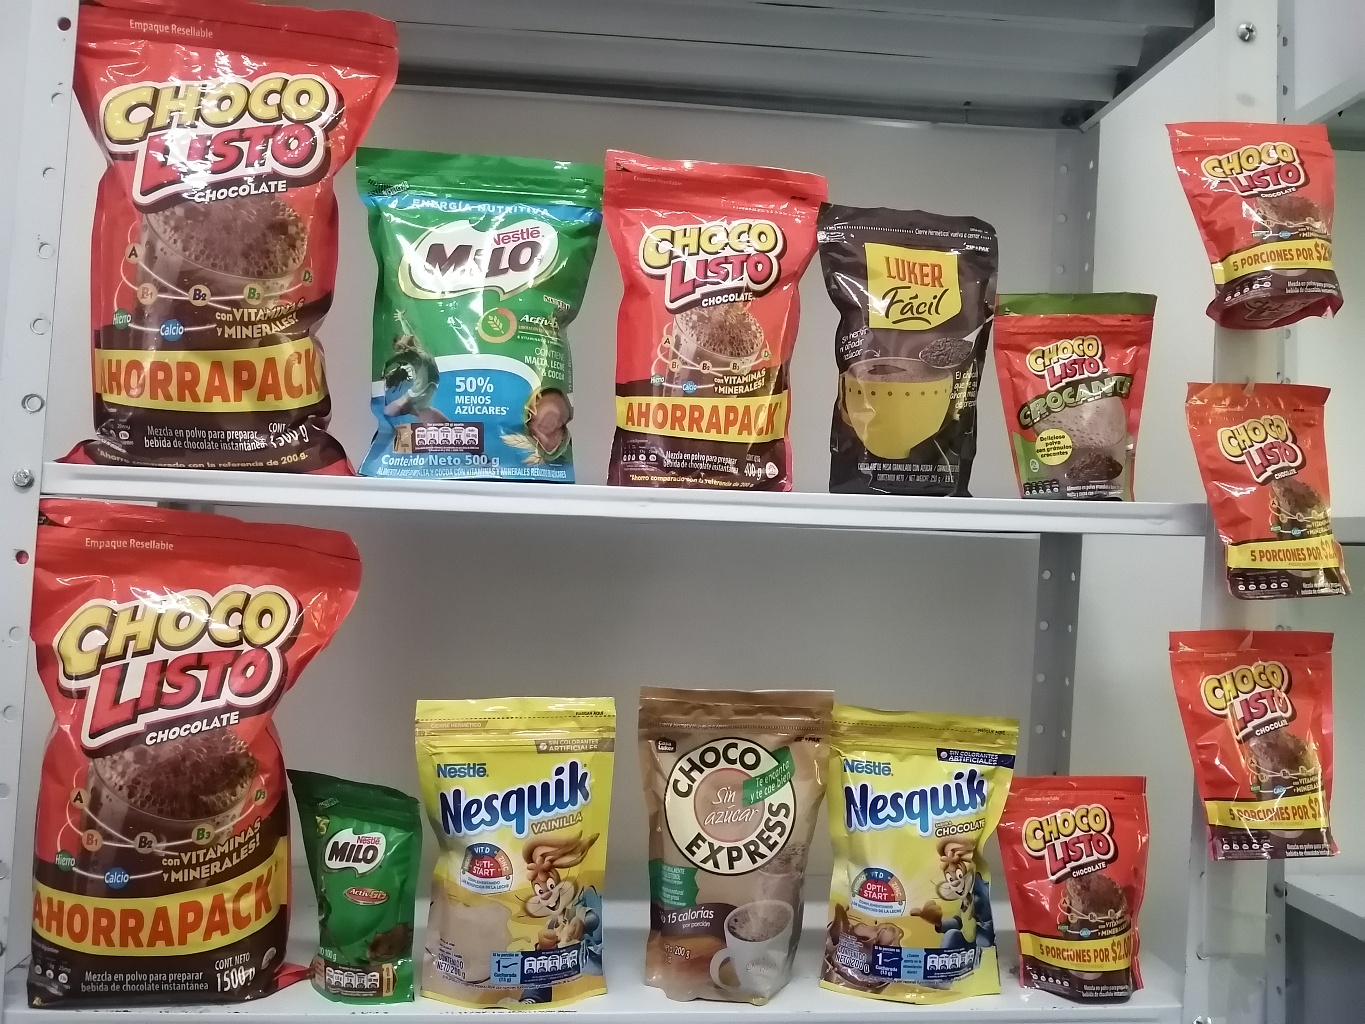COL0170102DYP10000: (990, 267, 1158, 494)
COL0170103DYP1,500: (29, 486, 362, 1009)
COL0170103DYP10000: (1156, 110, 1348, 336)
COL0170103DYP40000: (598, 137, 817, 490)
COL0170203DYP10000: (292, 760, 428, 1012)
COL0170205DYP50000: (355, 131, 606, 483)
COL0170303DYP20000: (825, 691, 1015, 1007)
COL0170306DYP20000: (410, 682, 626, 1002)
